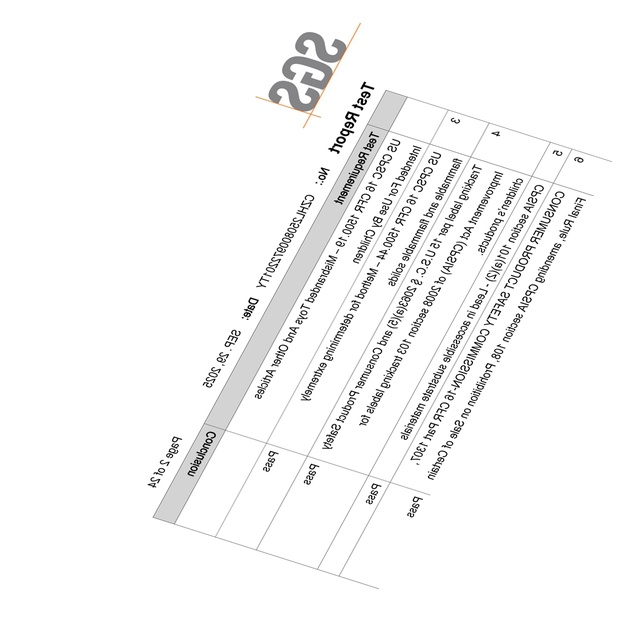sgs: (267, 29, 347, 112)
